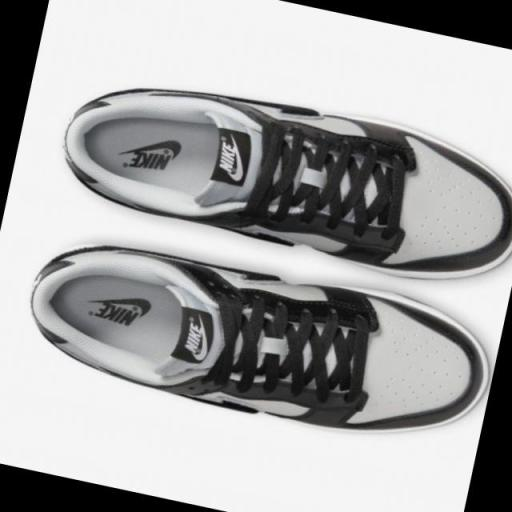Nike: (194, 322, 212, 360), (217, 142, 238, 171)
